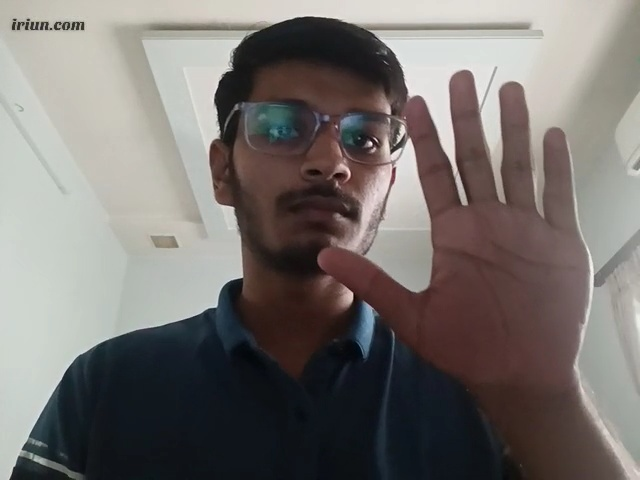Hello: (309, 68, 616, 397)
